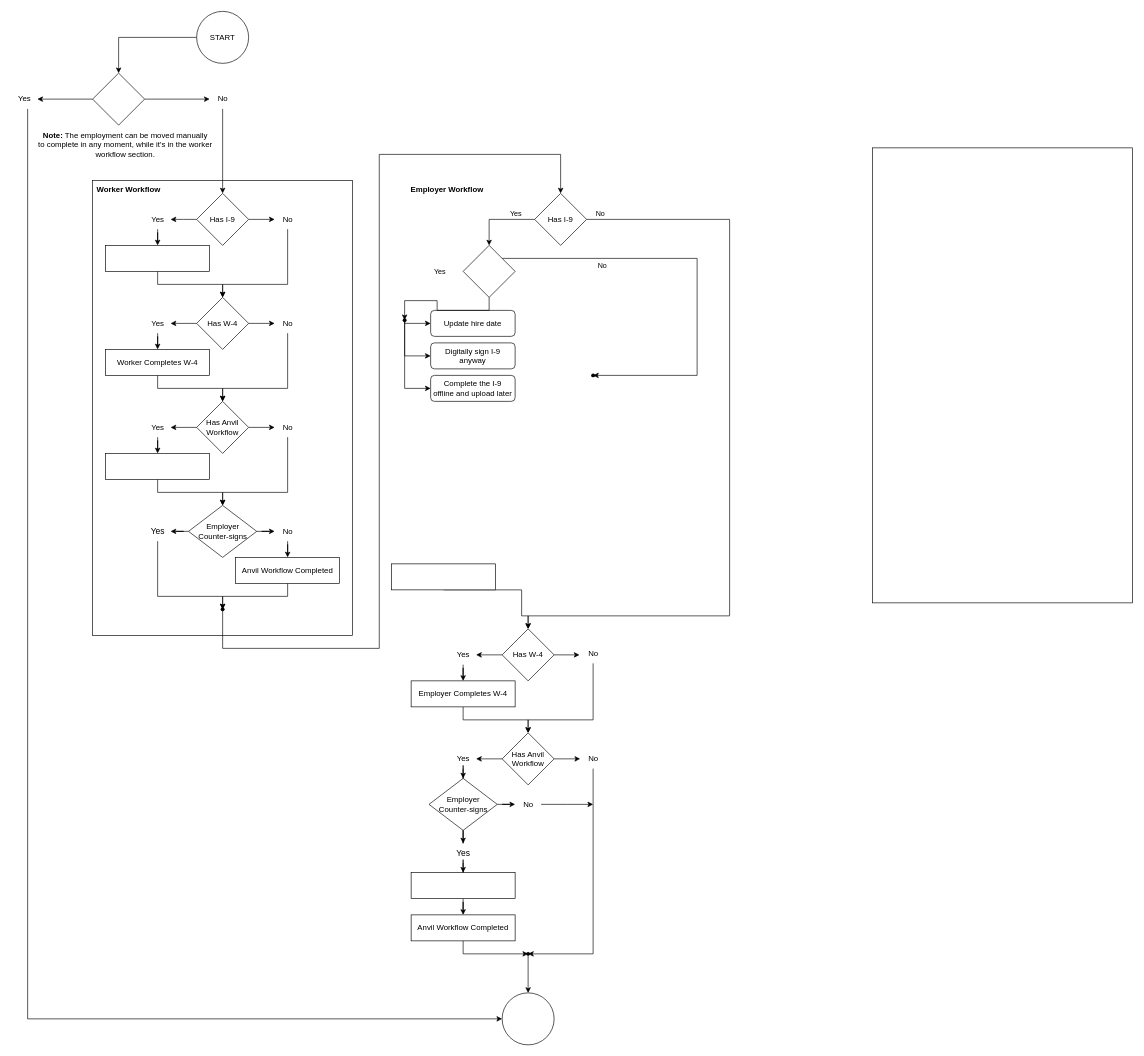
Some shapes in this 1144 by 1056 pixel diagram are drawn without their labels. The centre of each missing label's shape, as x and y in pixels:
"COMPLETE" goes at (x=527, y=1018).
"Employer Completes I-9" goes at (x=443, y=576).
"Employer Signs Anvil" goes at (x=462, y=885).
"Move to complete" goes at (x=118, y=98).
"Past due" goes at (x=488, y=271).
"Worker Completes I-9" goes at (x=157, y=258).
"Worker Signs Anvil" goes at (x=157, y=466).
